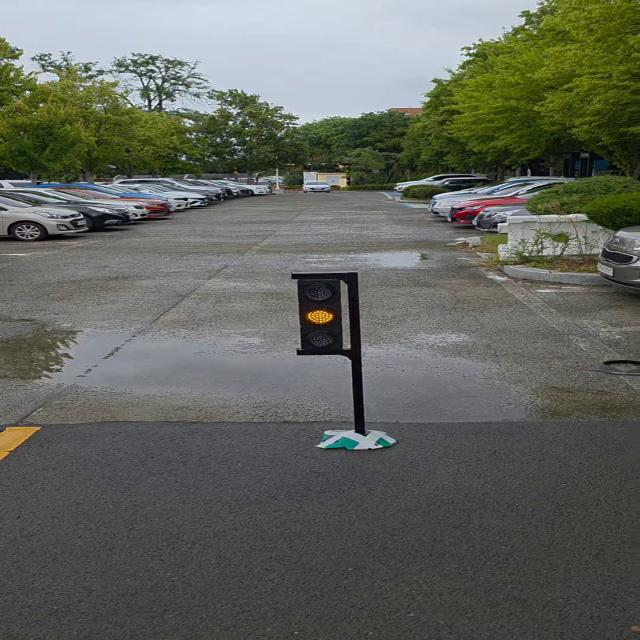yellow: (295, 275, 348, 355)
